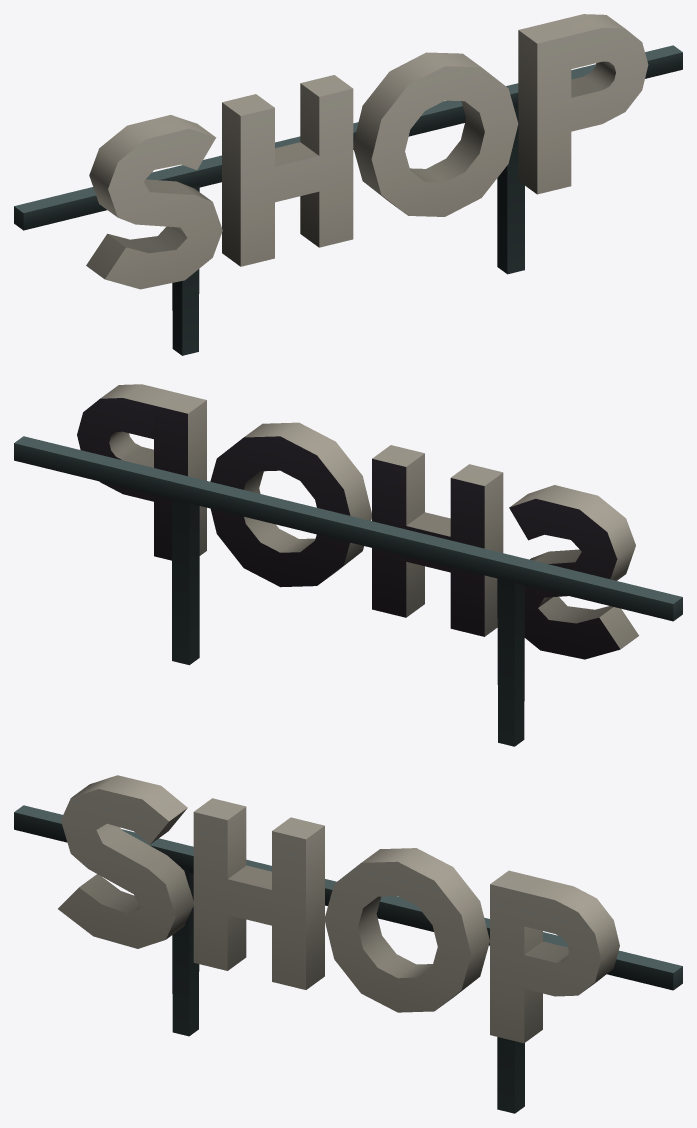
File: Title_3A.fbx
3 views of the same model, one above another, from view 1: azimuth 30°, elevation 25°; view 2: azimuth 150°, elevation 25°; view 3: azimuth 330°, elevation 25° (orthographic).
Parts seen in each view (by area): view 1: Title_3A, Title_Addon_3A; view 2: Title_3A, Title_Addon_3A; view 3: Title_3A, Title_Addon_3A.
Part boxes in pixels (box(x1,y1,x2,y2)): Title_3A: box(86, 14, 648, 289); Title_Addon_3A: box(14, 45, 682, 355); Title_3A: box(77, 384, 638, 659); Title_Addon_3A: box(14, 436, 682, 746); Title_3A: box(58, 775, 619, 1043); Title_Addon_3A: box(14, 805, 682, 1113).
Size of the model in its own units: 4.05 by 1.43 by 0.3053.
